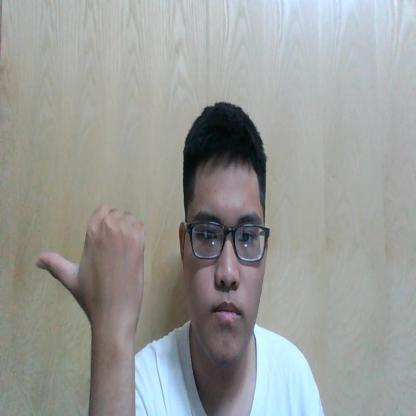right: (37, 204, 148, 327)
